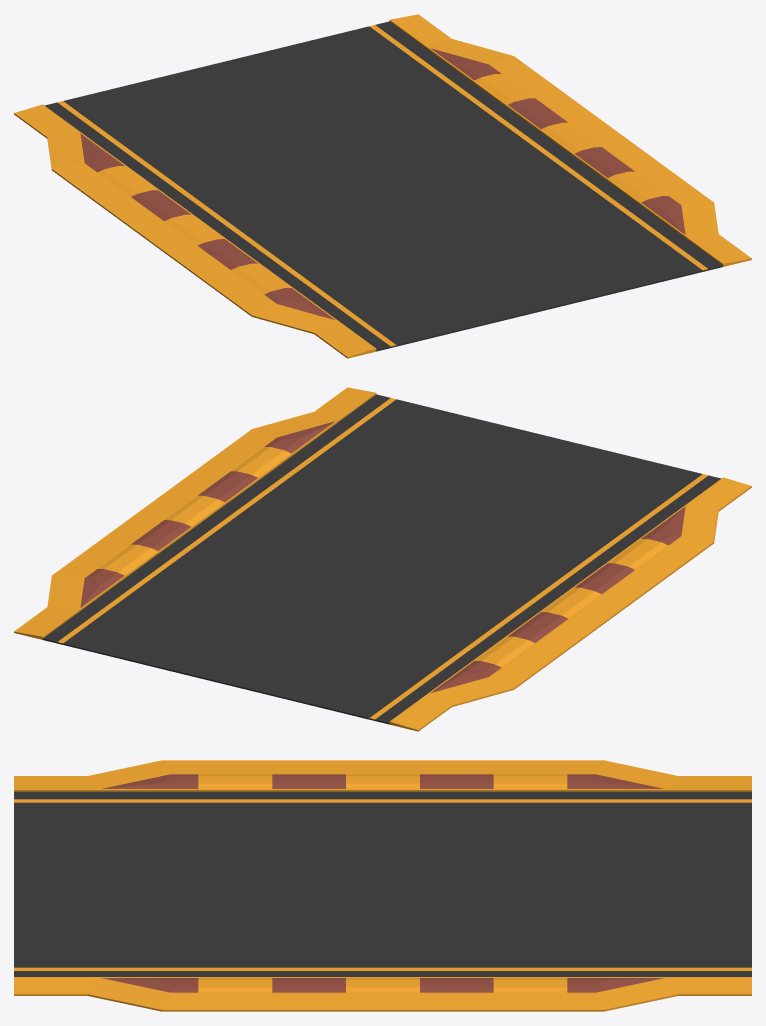
Rendered from SM_Racetrack_RunOff_Curb_Straight_20x20m.fbx.
3 renders of one model, top to bottom at view 1: azimuth 30°, elevation 25°; view 2: azimuth 150°, elevation 25°; view 3: azimuth 270°, elevation 25°, orthographic. The views are drawn at different scales.
Visible parts, largest first — view 1: SM_Racetrack_RunOff_Curb_Straight_20x20m; view 2: SM_Racetrack_RunOff_Curb_Straight_20x20m; view 3: SM_Racetrack_RunOff_Curb_Straight_20x20m.
Boxes of the visible parts, left/top/right/bottom form: SM_Racetrack_RunOff_Curb_Straight_20x20m: left=14, top=14, right=751, bottom=358; SM_Racetrack_RunOff_Curb_Straight_20x20m: left=14, top=387, right=751, bottom=731; SM_Racetrack_RunOff_Curb_Straight_20x20m: left=14, top=760, right=751, bottom=1011.
Bounding box in the file's own units: 16 × 0.15 × 20.
